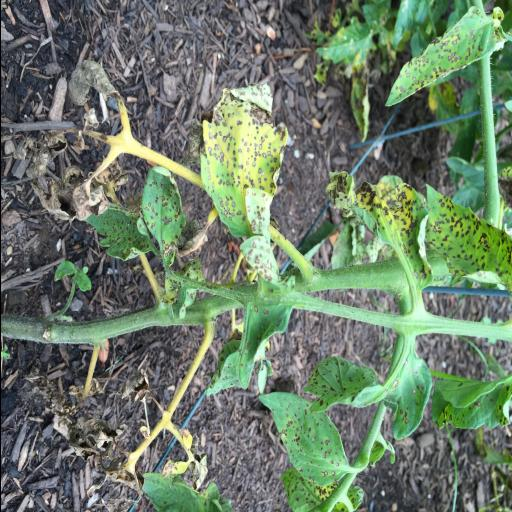disease_tomato: (194, 80, 286, 285), (322, 168, 428, 298), (422, 178, 508, 316), (300, 349, 430, 440), (385, 6, 498, 108), (256, 389, 350, 495), (202, 296, 296, 394), (82, 199, 152, 285), (430, 366, 512, 435), (137, 164, 187, 266), (279, 469, 338, 512)
